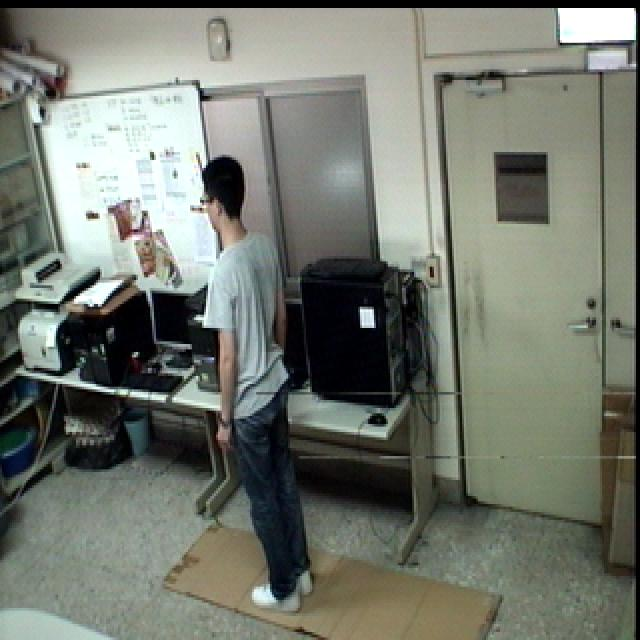stand: (192, 149, 324, 615)
